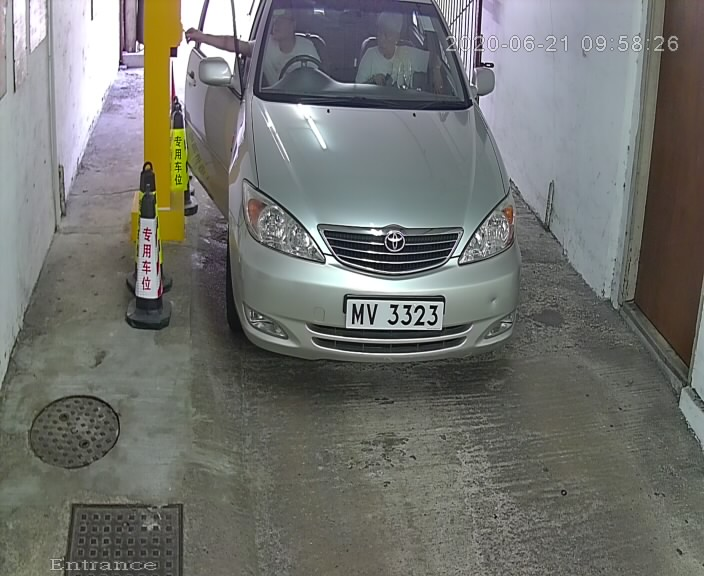privatecar: (190, 1, 537, 383)
